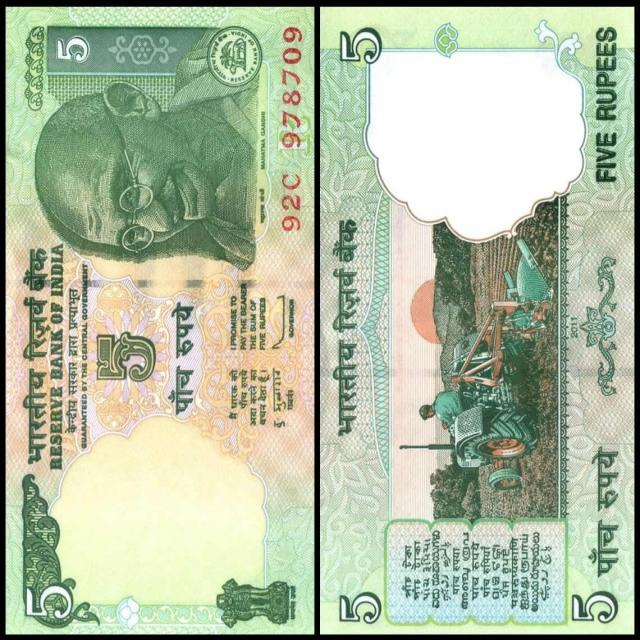5IndianRupees: (319, 10, 634, 632)
